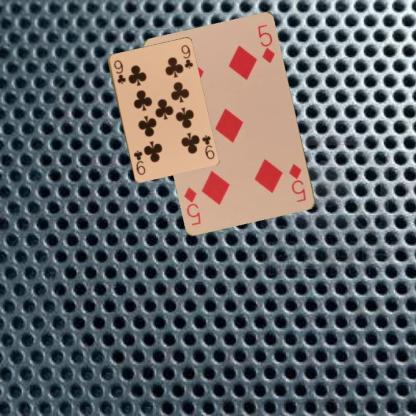5d: (286, 161, 308, 204)
9c: (200, 132, 216, 161), (111, 57, 127, 85)
